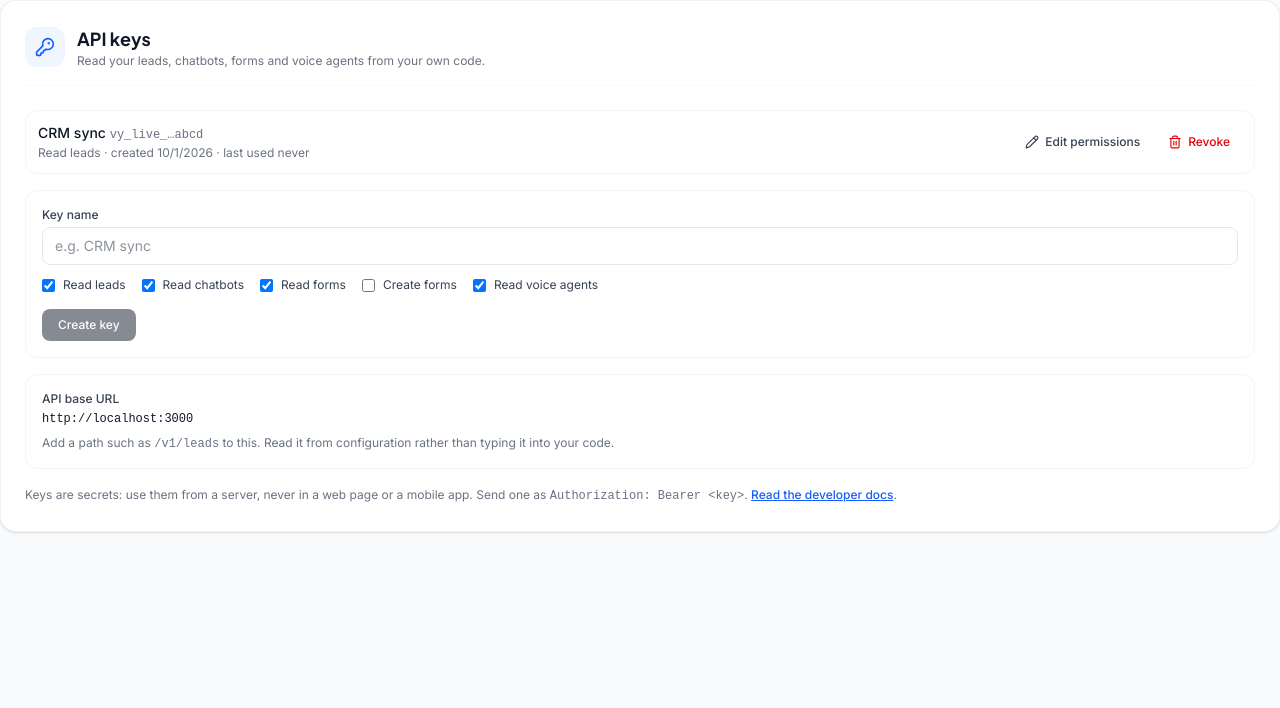
Test case: ApiKeysSection › shows the secret once after creating, and lists the key without it
Expected: the text "CRM sync" is shown, 38,124 -> 106,141
Type "Reporting" into the field labelled "Key name" at (640, 246), box 42,227 -> 1238,265
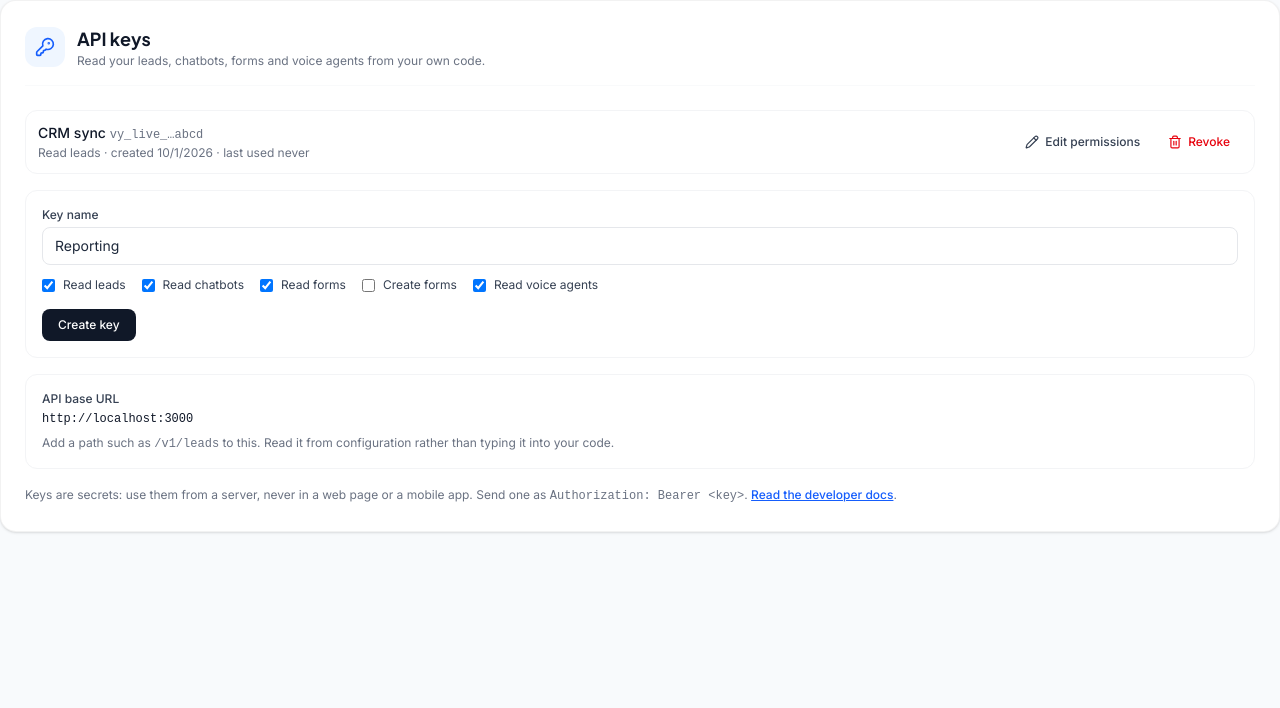
Click the button "Create key" at (89, 325), box 42,309 -> 136,341
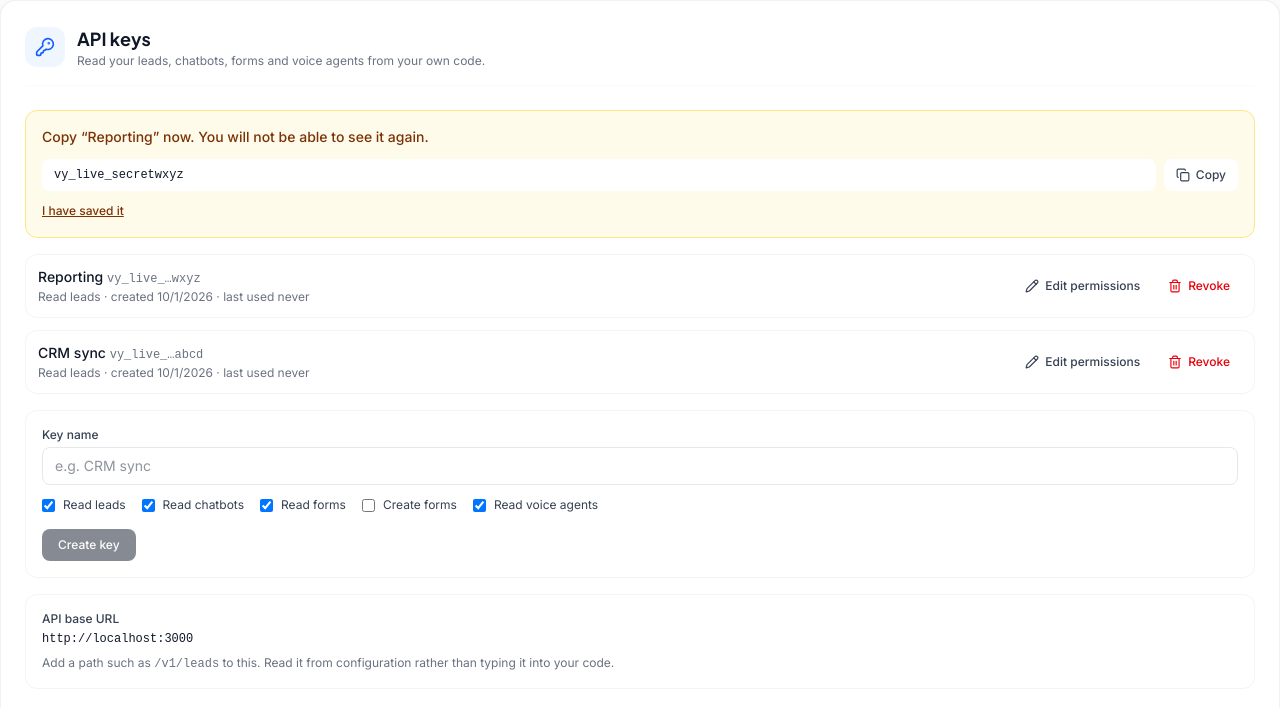
Now the text "vy_live_secretwxyz" is shown, box 42,159 -> 1156,191
Click the button "I have saved it" at (83, 211), box 42,203 -> 124,219
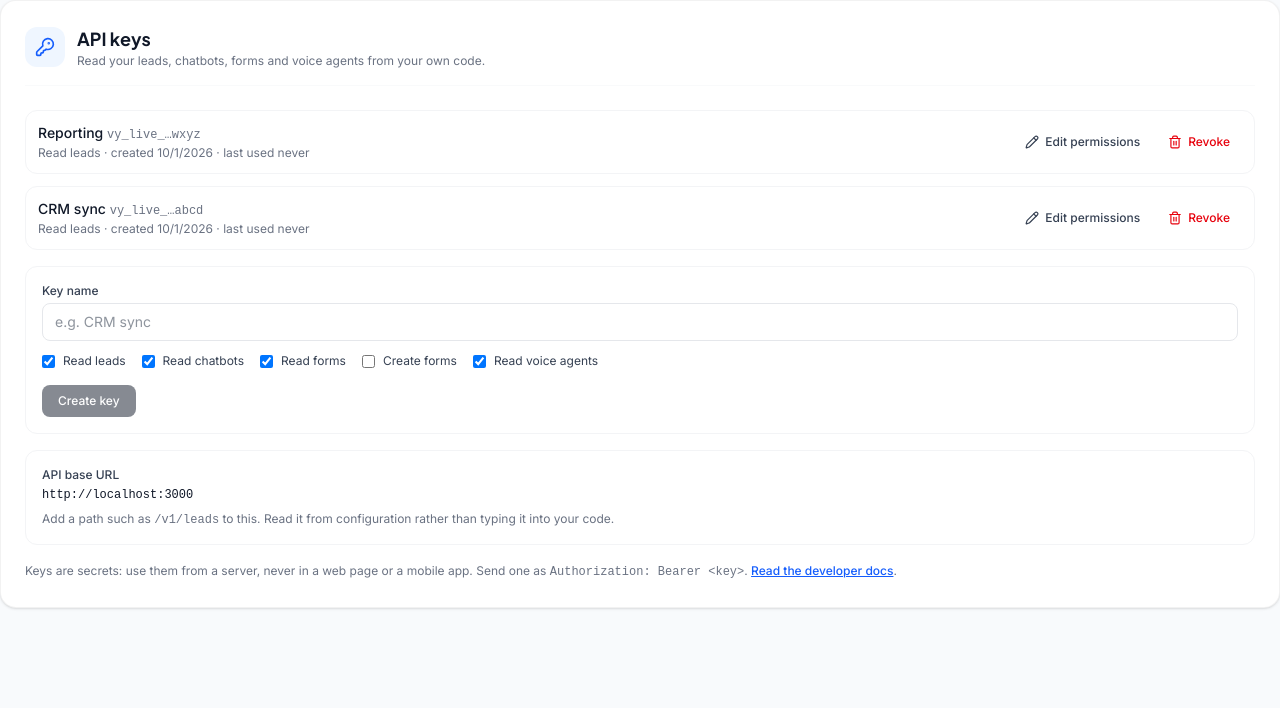
Now the text "vy_live_…wxyz" is shown, box 107,128 -> 201,142
Now the text "vy_live_secretwxyz" is gone
